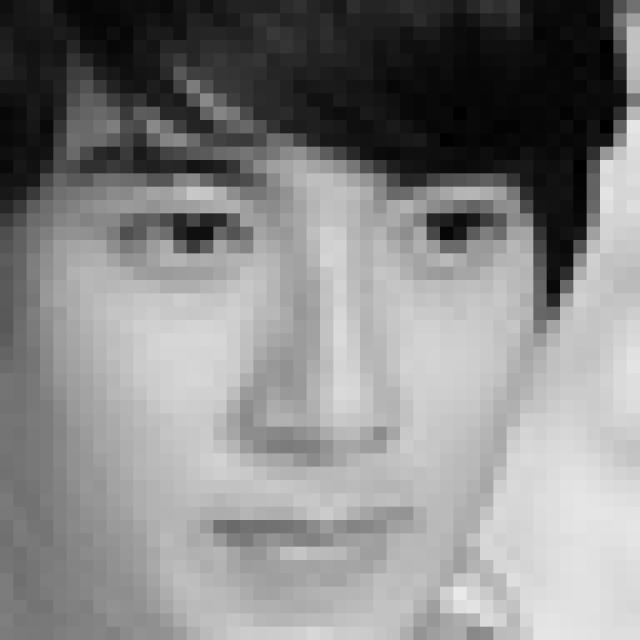neutral: (78, 141, 516, 603)
